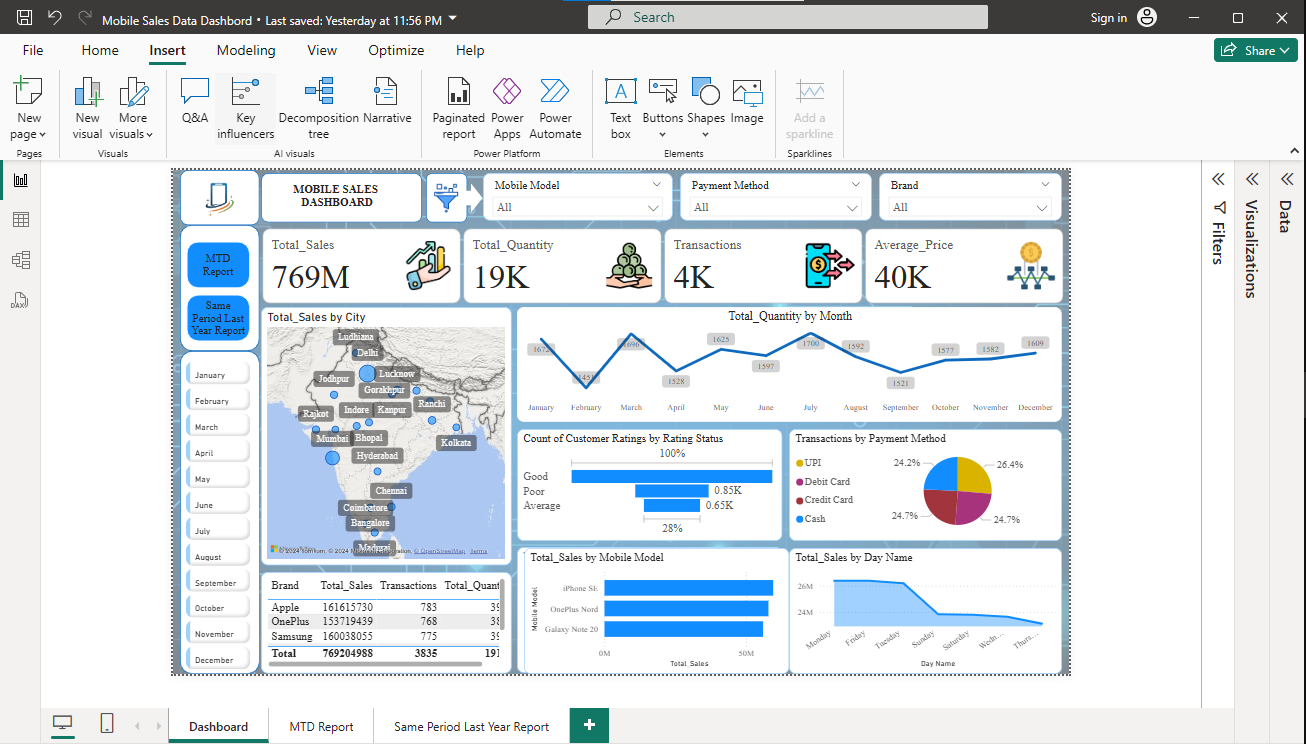

Layout of this report page (visuals, bound fields, positions):
{"tool":"powerbi","page":{"name":"Dashboard","canvas":[1280,720],"ordinal":0},"visuals":[{"type":"shape","box":[9.9,0,113.6,79],"z":0},{"type":"shape","box":[125.3,4.4,230,70.8],"z":1000},{"type":"shape","box":[10,258.8,113.8,461.2],"z":2000},{"type":"image","box":[19.2,8.8,92.9,63.4],"z":3000},{"type":"advancedSlicerVisual","fields":{"Values":["Custom_Calendar.Date.Variation.Date Hierarchy.Month"]},"box":[19.2,268.4,92.9,451.2],"z":4000},{"type":"slicer","fields":{"Values":["Sales_Data.Mobile Model"]},"box":[442.4,4.4,271.3,67.8],"z":5000},{"type":"slicer","fields":{"Values":["Sales_Data.Payment Method"]},"box":[724.1,4.4,274.3,67.8],"z":6000},{"type":"slicer","fields":{"Values":["Sales_Data.Brand"]},"box":[1008.7,4.3,260.9,68.1],"z":7000},{"type":"shape","box":[361.3,4.4,59,70.8],"z":8000},{"type":"image","box":[361.3,14.7,57.5,51.6],"z":9000},{"type":"shape","box":[408.5,19.2,33.9,42.8],"z":10000},{"type":"textbox","box":[135.7,14.7,197.6,54.6],"z":11000},{"type":"shape","box":[10.3,78.2,113.5,179.9],"z":12000},{"type":"cardVisual","fields":{"Data":["Sales_Data.Total_Sales","Sales_Data.Total_Quantity","Sales_Data.Transactions","Sales_Data.Average_Price"]},"box":[123.2,78.3,1156.5,117.4],"z":13000},{"type":"map","fields":{"Category":["Sales_Data.City"],"Size":["Sales_Data.Total_Sales"]},"box":[125,196.2,357.5,368.8],"z":14000},{"type":"lineChart","fields":{"Y":["Sales_Data.Total_Quantity"],"Category":["Custom_Calendar.Date.Variation.Date Hierarchy.Month"]},"box":[491.3,195.7,778.3,163.8],"z":15000},{"type":"funnel","fields":{"Y":["Sales_Data.Customer Ratings"],"Category":["Sales_Data.Rating Status"]},"box":[491.2,370,378.8,160],"z":16000},{"type":"pieChart","fields":{"Category":["Sales_Data.Payment Method"],"Y":["Sales_Data.Transactions"]},"box":[880,370,390,160],"z":17000},{"type":"clusteredBarChart","fields":{"Y":["Sales_Data.Total_Sales"],"Category":["Sales_Data.Mobile Model"]},"box":[491.2,538.8,378.8,180],"z":18000},{"type":"areaChart","fields":{"Y":["Sales_Data.Total_Sales"],"Category":["Custom_Calendar.Day Name"]},"box":[880,540,390,180],"z":19000},{"type":"tableEx","fields":{"Values":["Sales_Data.Brand","Sales_Data.Total_Sales","Sales_Data.Transactions","Sales_Data.Total_Quantity"]},"box":[125,573.8,357.5,145],"z":20000},{"type":"clusteredBarChart","fields":{"Y":["Sales_Data.Total_Sales"],"Category":["Sales_Data.Mobile Model"]},"box":[501.2,540,378.8,180],"z":21000},{"type":"pageNavigator","box":[18.8,101.2,92.5,145],"z":22000}]}

Visuals, with their boxes on the page's 1280x720 design canvas (x1, y1, x2, y2). These are canvas units, not pixel positions in the 1306x744 screenshot, which may show the page scaled, cropped or inside an application window:
shape: [10,0,124,79]
shape: [125,4,355,75]
shape: [10,259,124,720]
image: [19,9,112,72]
advancedSlicerVisual - Custom_Calendar.Date.Variation.Date Hierarchy.Month: [19,268,112,720]
slicer - Sales_Data.Mobile Model: [442,4,714,72]
slicer - Sales_Data.Payment Method: [724,4,998,72]
slicer - Sales_Data.Brand: [1009,4,1270,72]
shape: [361,4,420,75]
image: [361,15,419,66]
shape: [408,19,442,62]
textbox: [136,15,333,69]
shape: [10,78,124,258]
cardVisual - Sales_Data.Total_Sales x Sales_Data.Total_Quantity: [123,78,1280,196]
map - Sales_Data.City x Sales_Data.Total_Sales: [125,196,482,565]
lineChart - Sales_Data.Total_Quantity x Custom_Calendar.Date.Variation.Date Hierarchy.Month: [491,196,1270,360]
funnel - Sales_Data.Customer Ratings x Sales_Data.Rating Status: [491,370,870,530]
pieChart - Sales_Data.Payment Method x Sales_Data.Transactions: [880,370,1270,530]
clusteredBarChart - Sales_Data.Total_Sales x Sales_Data.Mobile Model: [491,539,870,719]
areaChart - Sales_Data.Total_Sales x Custom_Calendar.Day Name: [880,540,1270,720]
tableEx - Sales_Data.Brand x Sales_Data.Total_Sales: [125,574,482,719]
clusteredBarChart - Sales_Data.Total_Sales x Sales_Data.Mobile Model: [501,540,880,720]
pageNavigator: [19,101,111,246]
